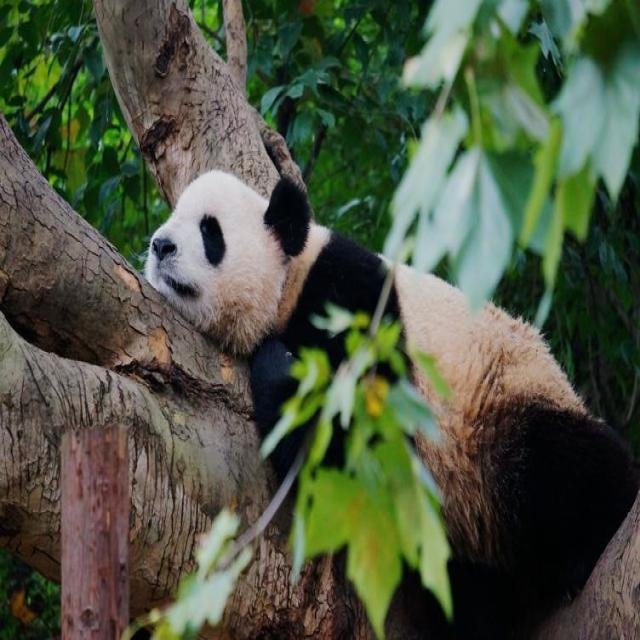panda: (145, 155, 640, 640)
